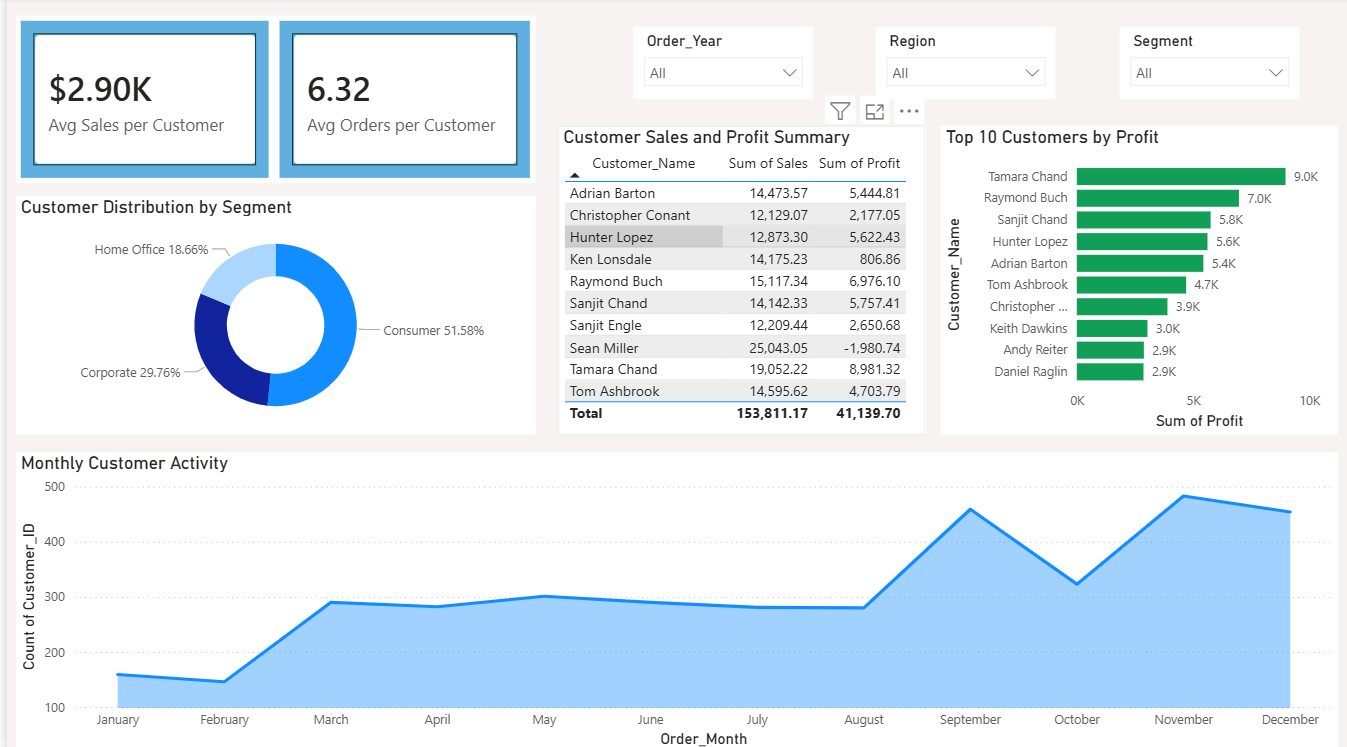

This screenshot's page, from the dashboard's own definition file:
{"tool":"powerbi","page":{"name":"Customer Insights and Profitability","canvas":[1280,720],"ordinal":2},"visuals":[{"type":"cardVisual","fields":{"Data":["Retail Sales Analysis.Sales per Customer"]},"box":[8.3,17.9,246.4,159.5],"z":0},{"type":"cardVisual","fields":{"Data":["Retail Sales Analysis.Orders per Customer"]},"box":[254.8,17.9,248.8,159.5],"z":1000},{"type":"donutChart","title":"Customer Distribution by Segment","fields":{"Category":["Retail Sales Analysis.Segment"],"Y":["Count(Retail Sales Analysis.Customer_ID)"]},"box":[8.3,189.3,495.2,227.4],"z":2000},{"type":"tableEx","title":"Customer Sales and Profit Summary","fields":{"Values":["Retail Sales Analysis.Customer_Name","Sum(Retail Sales Analysis.Sales)","Sum(Retail Sales Analysis.Profit)"]},"box":[525,122.6,350,294],"z":3000},{"type":"clusteredBarChart","title":"Top 10 Customers by Profit","fields":{"Category":["Retail Sales Analysis.Customer_Name"],"Y":["Sum(Retail Sales Analysis.Profit)"]},"box":[889.3,122.6,378.6,294],"z":4000},{"type":"areaChart","title":"Monthly Customer Activity","fields":{"Category":["Retail Sales Analysis.Order_Month"],"Y":["Count(Retail Sales Analysis.Customer_ID)"]},"box":[8.3,433.3,1259.5,286.9],"z":5000},{"type":"slicer","fields":{"Values":["Retail Sales Analysis.Order_Year"]},"box":[596.4,28.6,171.4,69],"z":6000},{"type":"slicer","fields":{"Values":["Retail Sales Analysis.Region"]},"box":[827.4,28.6,171.4,69],"z":7000},{"type":"slicer","fields":{"Values":["Retail Sales Analysis.Segment"]},"box":[1059.5,28.6,171.4,69],"z":8000}]}

Visuals, with their boxes in screenshot pixels (x1, y1, x2, y2), scaled from the page's 1280x720 canvas onto the 1347x747 screenshot:
cardVisual - Retail Sales Analysis.Sales per Customer: bbox=[9, 19, 268, 184]
cardVisual - Retail Sales Analysis.Orders per Customer: bbox=[268, 19, 530, 184]
"Customer Distribution by Segment" donutChart: bbox=[9, 196, 530, 432]
"Customer Sales and Profit Summary" tableEx: bbox=[552, 127, 921, 432]
"Top 10 Customers by Profit" clusteredBarChart: bbox=[936, 127, 1334, 432]
"Monthly Customer Activity" areaChart: bbox=[9, 450, 1334, 746]
slicer - Retail Sales Analysis.Order_Year: bbox=[628, 30, 808, 101]
slicer - Retail Sales Analysis.Region: bbox=[871, 30, 1051, 101]
slicer - Retail Sales Analysis.Segment: bbox=[1115, 30, 1295, 101]
